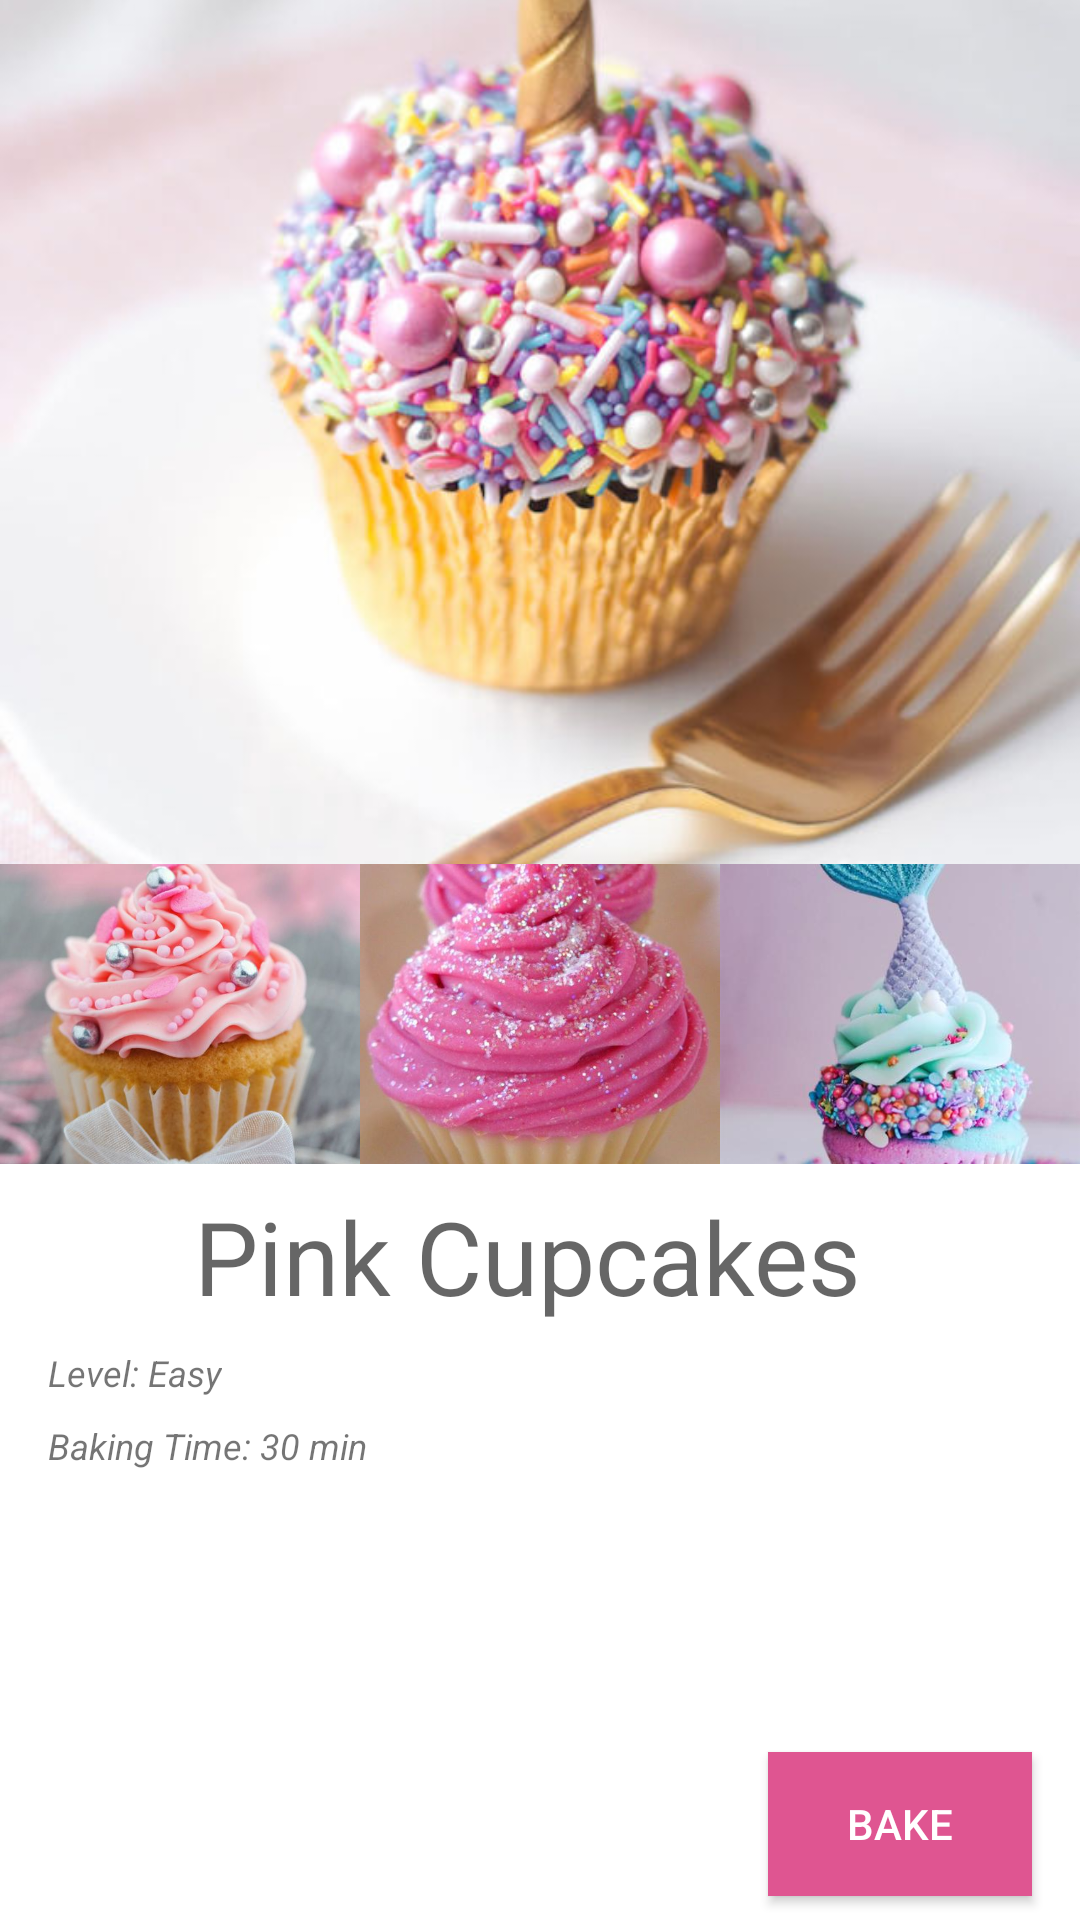

Where to tap for icons on this 1080 × 1920 app screen, as (x=x, y=y):
glitter cupcakes: (x=540, y=1014)
mermaid cupcake: (x=900, y=1014)
